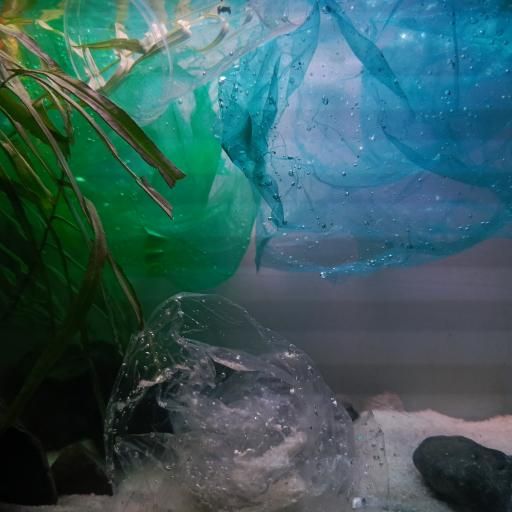plastic_bag: (214, 0, 512, 281), (0, 0, 256, 322), (110, 292, 394, 512)
plastic_cup: (63, 0, 317, 122)
